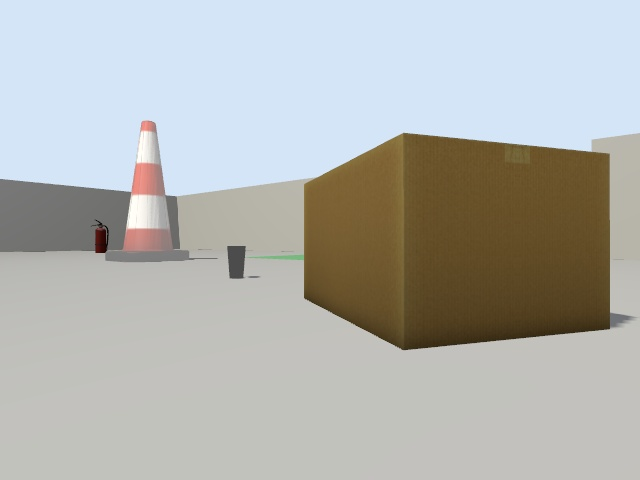carton: (304, 134, 608, 349)
cone_chantier: (105, 121, 188, 259)
extincteur: (92, 220, 108, 252)
gobelet: (228, 246, 245, 278)
